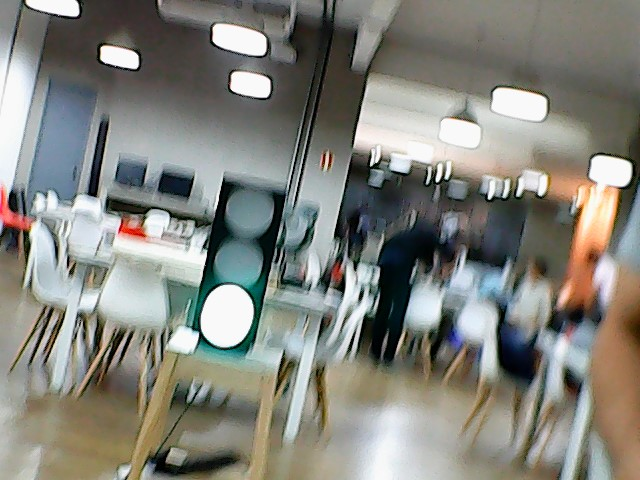verde: (188, 164, 293, 384)
